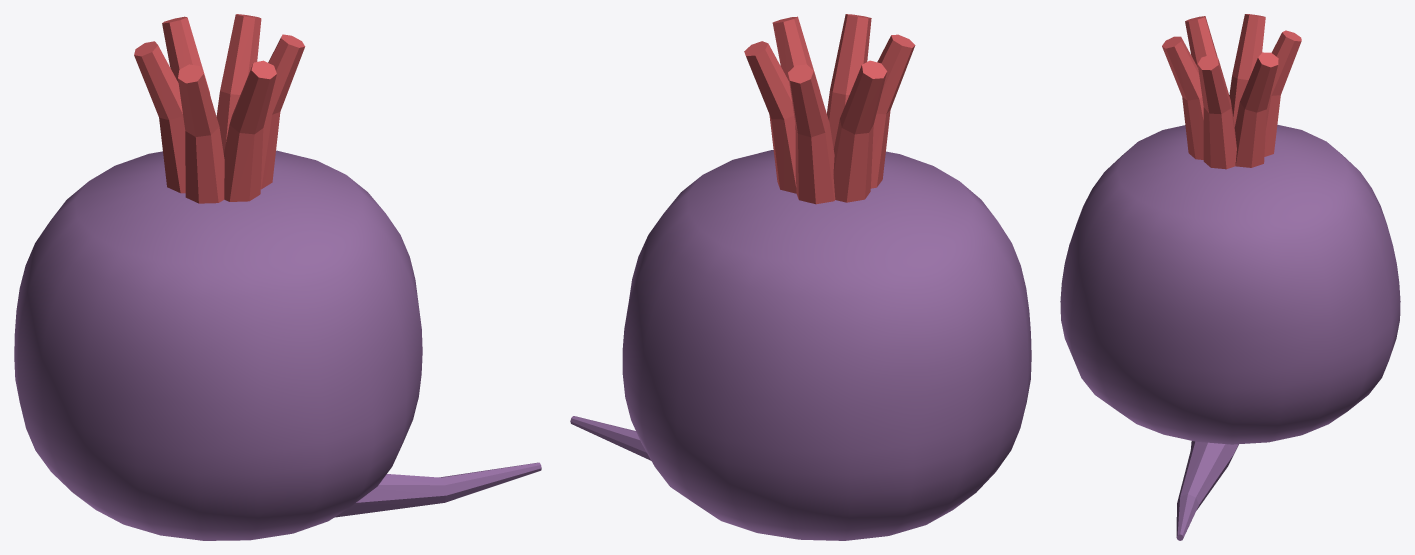
The model's file is fresh-produce-and-groceries-beetroot-3f0ea3db__24353.glb.
3 renders of one model, left to right at view 1: azimuth 30°, elevation 25°; view 2: azimuth 150°, elevation 25°; view 3: azimuth 270°, elevation 25°, orthographic. The views are drawn at different scales.
Visible parts, largest first — view 1: beetroot_0, beetroot_1; view 2: beetroot_0, beetroot_1; view 3: beetroot_0, beetroot_1.
Boxes of the visible parts, <box> form: beetroot_0: <box>14,150,541,540</box>; beetroot_1: <box>134,14,305,203</box>; beetroot_0: <box>570,150,1031,540</box>; beetroot_1: <box>744,14,915,204</box>; beetroot_0: <box>1060,124,1400,540</box>; beetroot_1: <box>1162,14,1301,169</box>.
Bounding box in the file's own units: 0.11 × 0.1104 × 0.0848.
